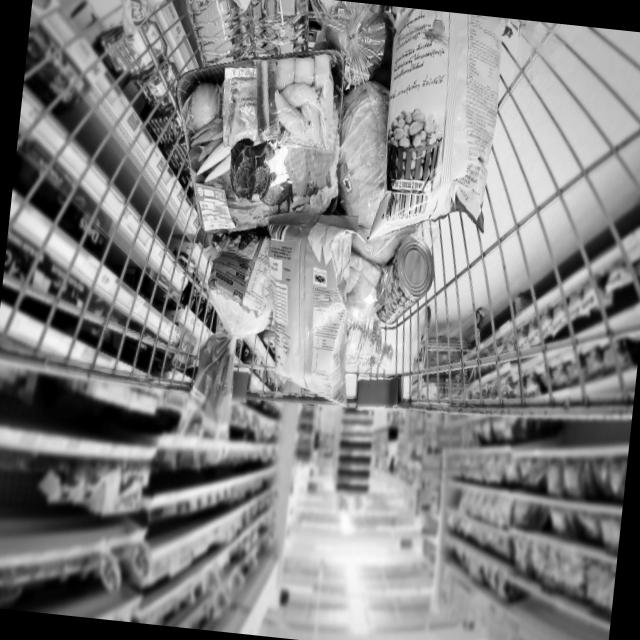apple: (310, 10, 390, 84)
bap cai: (318, 70, 404, 232)
bread: (175, 226, 276, 428)
oil: (331, 318, 398, 386)
